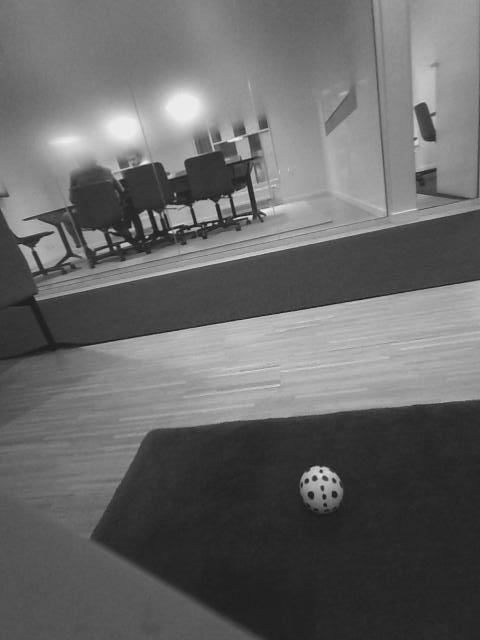dogtoy: (295, 454, 349, 522)
